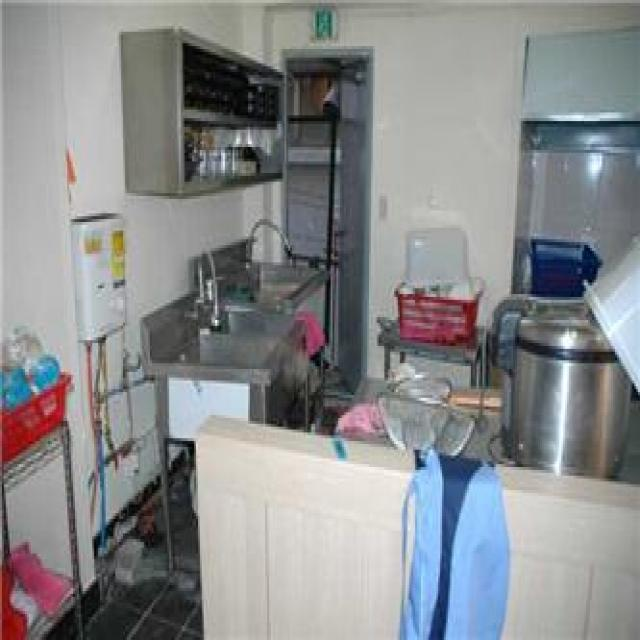Boiler: (66, 212, 134, 362)
